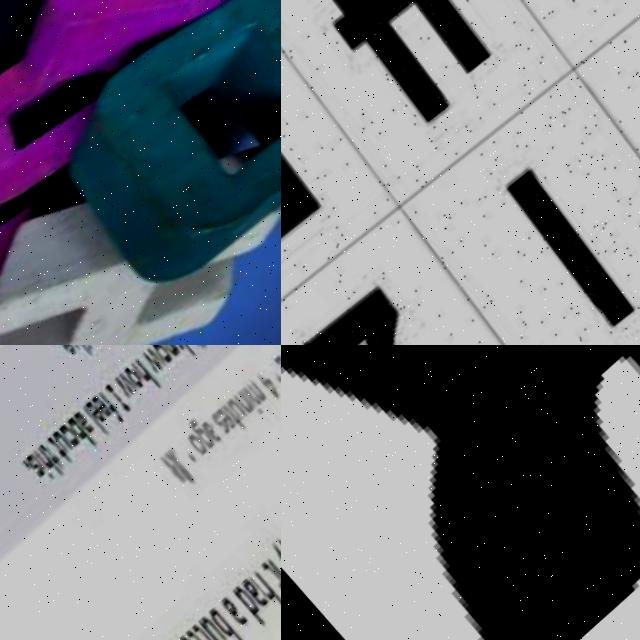1: (487, 163, 640, 339)
2: (287, 271, 522, 345)
4: (286, 0, 536, 150), (255, 369, 281, 403)
5: (281, 51, 359, 279)
A: (227, 597, 265, 633), (248, 578, 281, 611), (204, 419, 233, 447), (75, 409, 104, 437)
B: (212, 607, 258, 640), (68, 416, 106, 452)
D: (3, 0, 281, 329), (238, 585, 281, 626)
E: (93, 393, 122, 422), (86, 398, 114, 424), (218, 405, 245, 431), (53, 345, 83, 357), (275, 353, 281, 379)
F: (99, 391, 135, 425)
G: (0, 0, 281, 164), (189, 418, 224, 451)
H: (0, 134, 277, 345), (132, 357, 170, 394), (36, 445, 74, 481), (254, 572, 281, 613)
I: (241, 385, 274, 418), (31, 449, 64, 482), (107, 383, 138, 413), (272, 558, 281, 595), (67, 345, 101, 354)
K: (281, 345, 640, 640), (62, 345, 100, 360), (167, 345, 202, 361)
L: (84, 405, 118, 438)
M: (244, 379, 274, 407)
N: (235, 390, 262, 416), (160, 345, 187, 359)
O: (188, 429, 218, 458), (61, 422, 91, 449), (125, 366, 154, 393), (151, 345, 181, 367), (183, 633, 219, 640)
S: (28, 453, 56, 480), (212, 410, 239, 437)
T: (222, 401, 257, 435), (48, 433, 82, 467), (42, 441, 74, 472), (198, 622, 238, 640), (266, 560, 281, 600), (191, 627, 232, 640), (175, 345, 209, 352)
U: (206, 614, 239, 640), (55, 429, 83, 455), (228, 396, 255, 422)
W: (139, 345, 177, 378), (114, 370, 147, 402)
